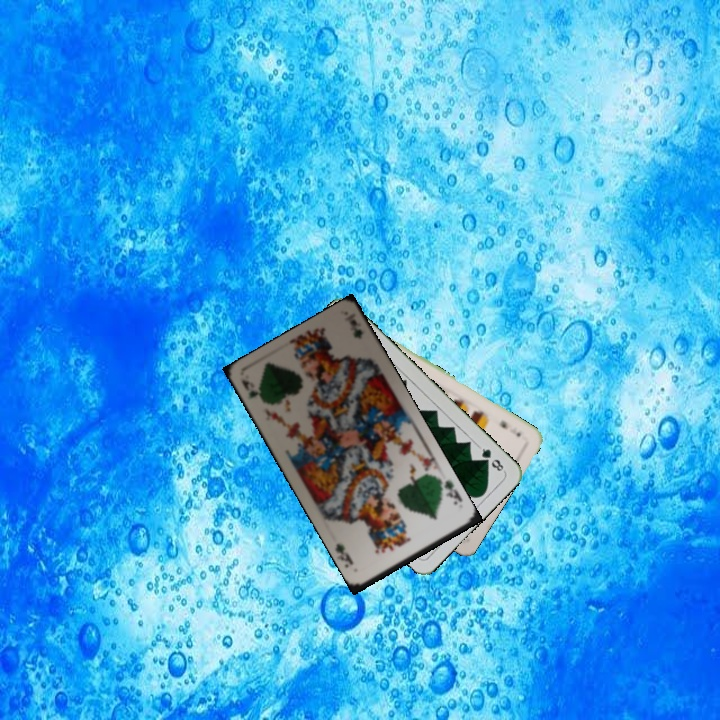E7: (495, 416, 523, 439)
G8: (475, 443, 507, 474)
GK: (237, 375, 270, 407), (436, 476, 465, 508)
